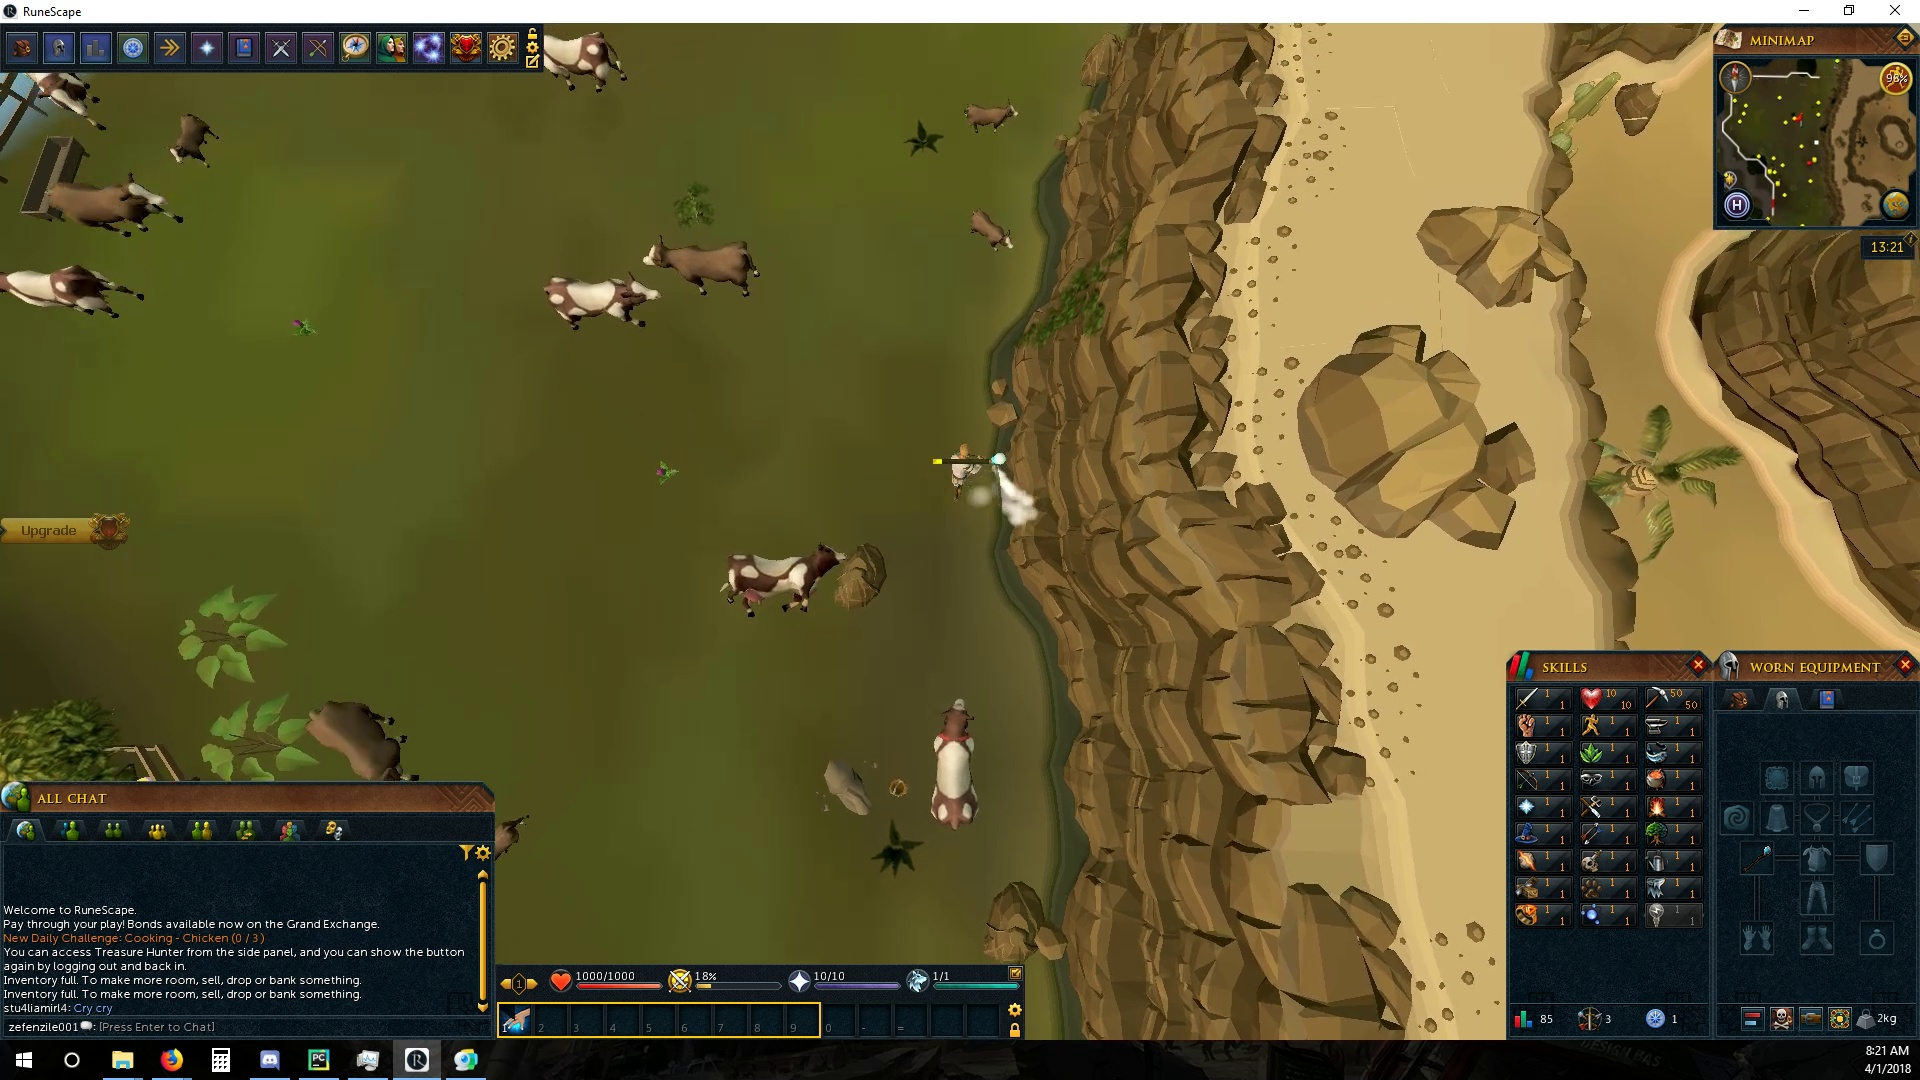calf: (170, 113, 222, 173), (956, 98, 1021, 137), (964, 207, 1015, 252)
cow: (717, 543, 851, 618), (306, 698, 426, 781), (38, 174, 182, 243), (1, 261, 149, 322), (542, 272, 665, 338), (928, 698, 985, 832), (644, 233, 764, 295), (545, 24, 633, 92)
